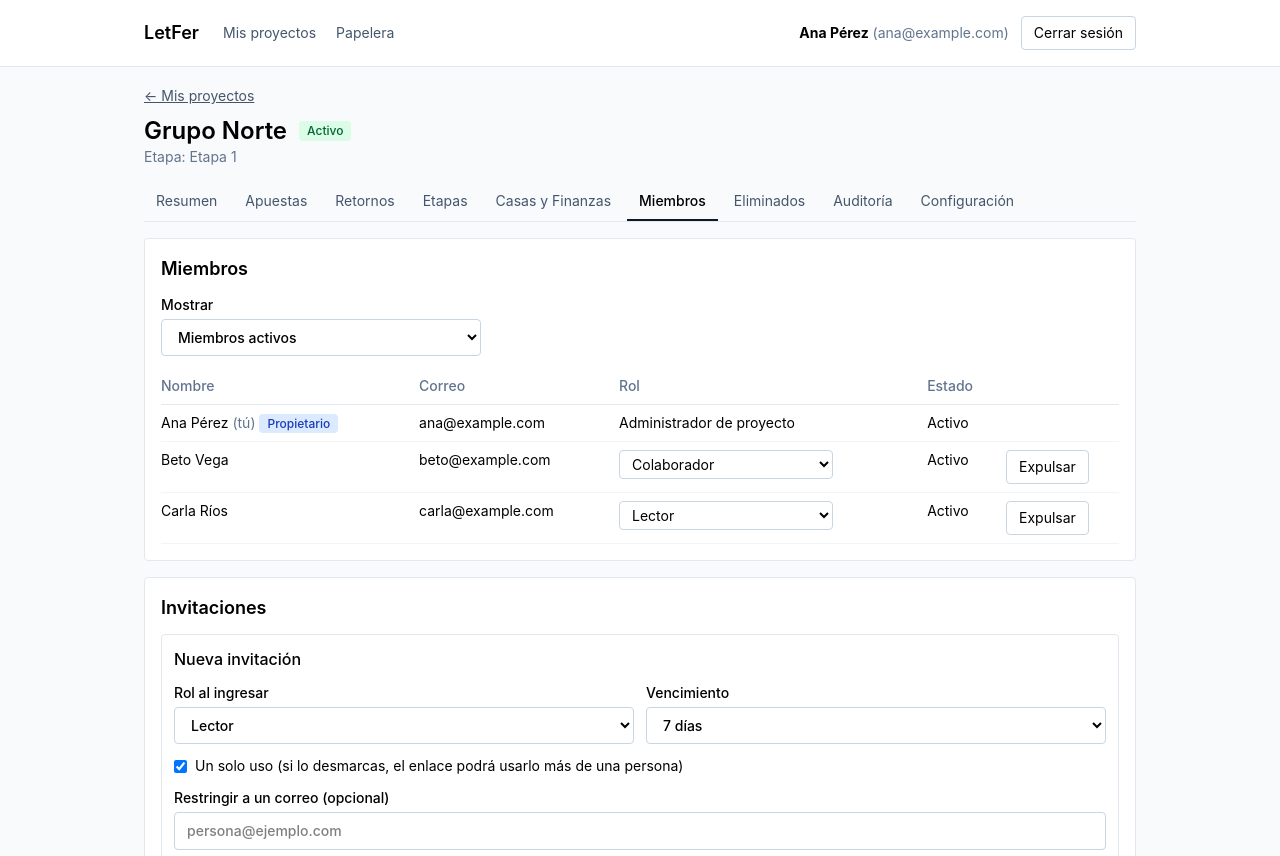
Scenario: miembros › expulsión › muestra el mensaje de la API cuando no se puede (propietario protegido)
Click the button with aria-label "Expulsar a Beto Vega": (1047, 467) [1006,450,1089,484]
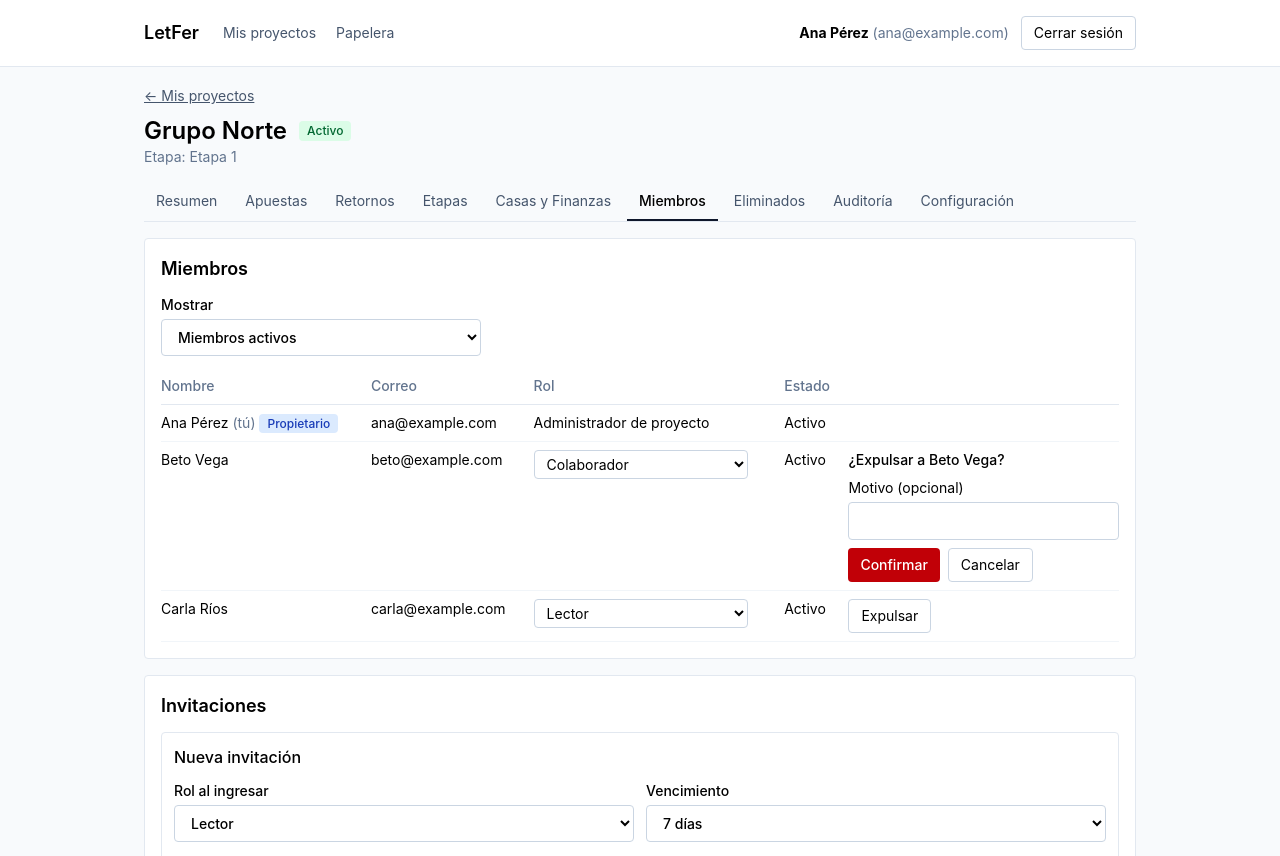
Click the button "Confirmar": (894, 565) [848,548,940,582]
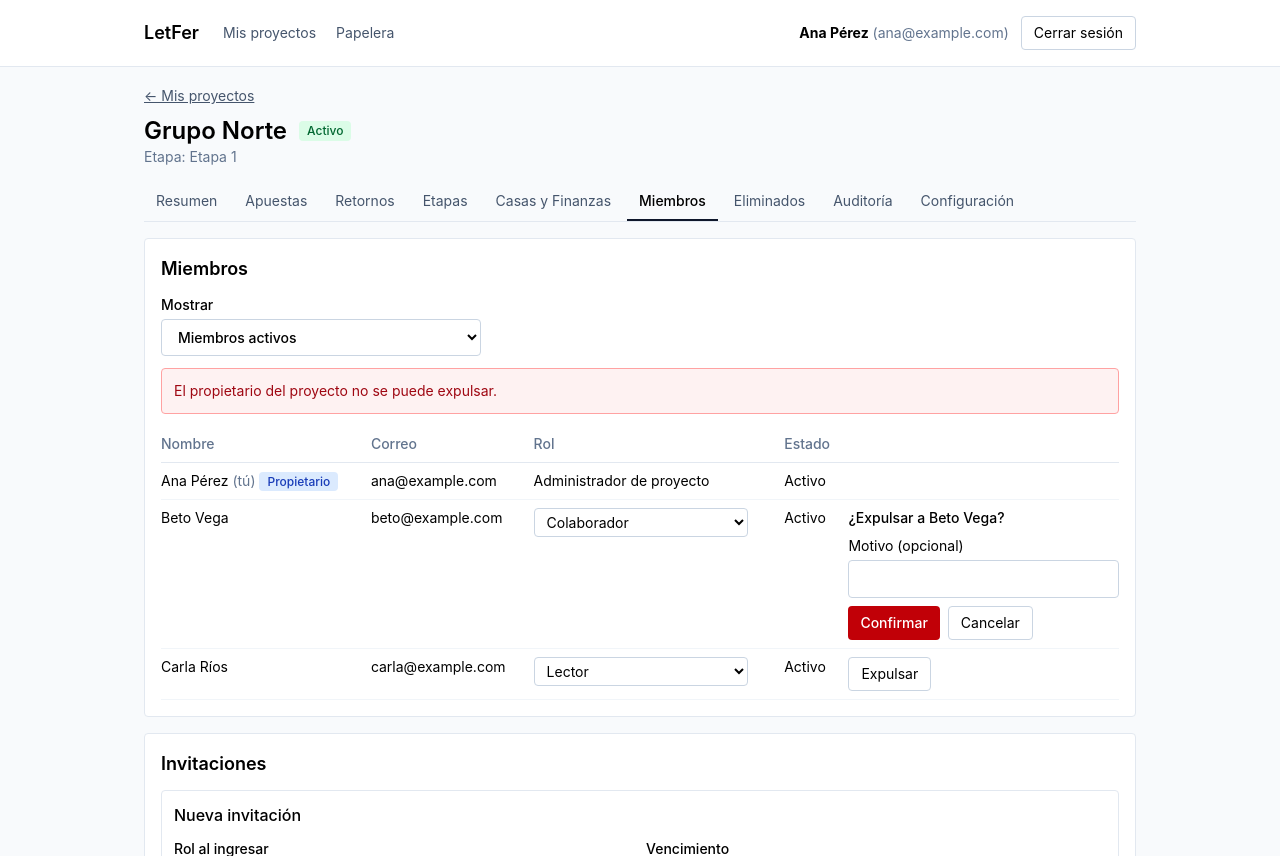
Expected: the message reads "El propietario del proyecto no se puede expulsar.", [174,382,497,399]
